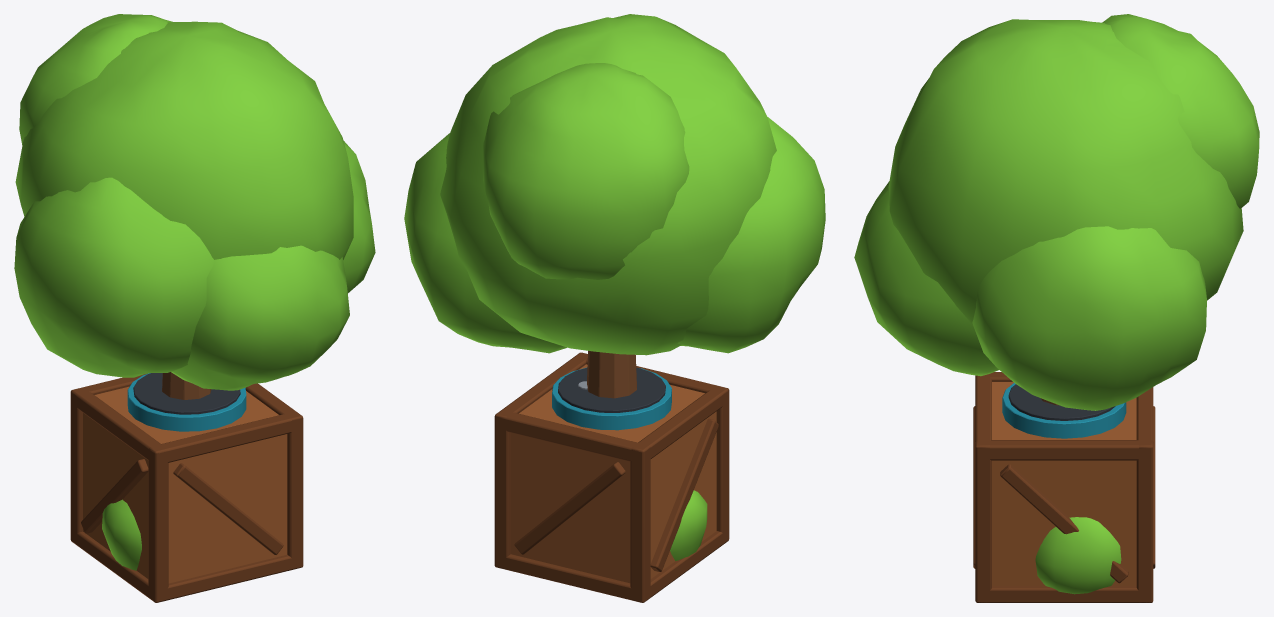
File: props.glb
3 renders of one model, left to right at view 1: azimuth 30°, elevation 25°; view 2: azimuth 150°, elevation 25°; view 3: azimuth 270°, elevation 25°, orthographic. The views are drawn at different scales.
Parts seen in each view (by area): view 1: leaves, leaves.002, core, leaves.003, leaves.004, post, edge.001, leaves.001, post.002, body, edge, lid (+9 smaller); view 2: leaves, leaves.004, core, leaves.002, leaves.001, post.001, edge.005, lid, body, post.003, edge.004, brace.001 (+8 smaller); view 3: leaves, leaves.001, core, leaves.004, leaves.003, leaves.006, edge.007, post.003, post.002, edge.006, body, brace.003 (+3 smaller).
Boxes of the visible parts, x1=… form: leaves: x1=15, y1=21, x2=353, y2=259; leaves.002: x1=14, y1=177, x2=214, y2=377; core: x1=83, y1=386, x2=287, y2=583; leaves.003: x1=171, y1=245, x2=349, y2=390; leaves.004: x1=19, y1=14, x2=172, y2=144; post: x1=148, y1=444, x2=168, y2=602; edge.001: x1=159, y1=412, x2=294, y2=463; leaves.001: x1=343, y1=140, x2=375, y2=293; post.002: x1=287, y1=411, x2=303, y2=569; body: x1=127, y1=373, x2=246, y2=431; edge: x1=159, y1=554, x2=300, y2=602; lid: x1=133, y1=373, x2=240, y2=414; leaves: x1=440, y1=14, x2=776, y2=355; leaves.004: x1=483, y1=63, x2=689, y2=279; core: x1=511, y1=364, x2=716, y2=583; leaves.002: x1=677, y1=117, x2=825, y2=353; leaves.001: x1=404, y1=133, x2=566, y2=353; post.001: x1=630, y1=443, x2=650, y2=602; edge.005: x1=497, y1=412, x2=639, y2=462; lid: x1=558, y1=367, x2=665, y2=412; body: x1=552, y1=367, x2=671, y2=430; post.003: x1=494, y1=410, x2=510, y2=569; edge.004: x1=504, y1=554, x2=631, y2=600; brace.001: x1=650, y1=418, x2=718, y2=571; leaves: x1=888, y1=19, x2=1243, y2=327; leaves.001: x1=972, y1=226, x2=1206, y2=410; core: x1=992, y1=382, x2=1136, y2=586; leaves.004: x1=1102, y1=14, x2=1259, y2=208; leaves.003: x1=854, y1=181, x2=998, y2=376; leaves.006: x1=1035, y1=517, x2=1121, y2=594; edge.007: x1=979, y1=440, x2=1148, y2=460; post.003: x1=1136, y1=440, x2=1153, y2=602; post.002: x1=975, y1=440, x2=991, y2=602; edge.006: x1=979, y1=586, x2=1149, y2=602; body: x1=1002, y1=383, x2=1126, y2=438; brace.003: x1=1000, y1=464, x2=1128, y2=583.
Bounding box in the file's own units: 2.05 × 2.96 × 1.96.
